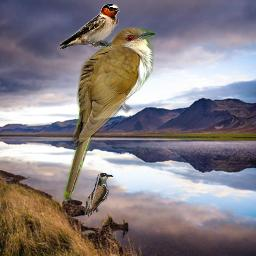Cuckoo: (62, 27, 157, 202), (85, 173, 120, 217)
Swallow: (58, 3, 120, 49)
